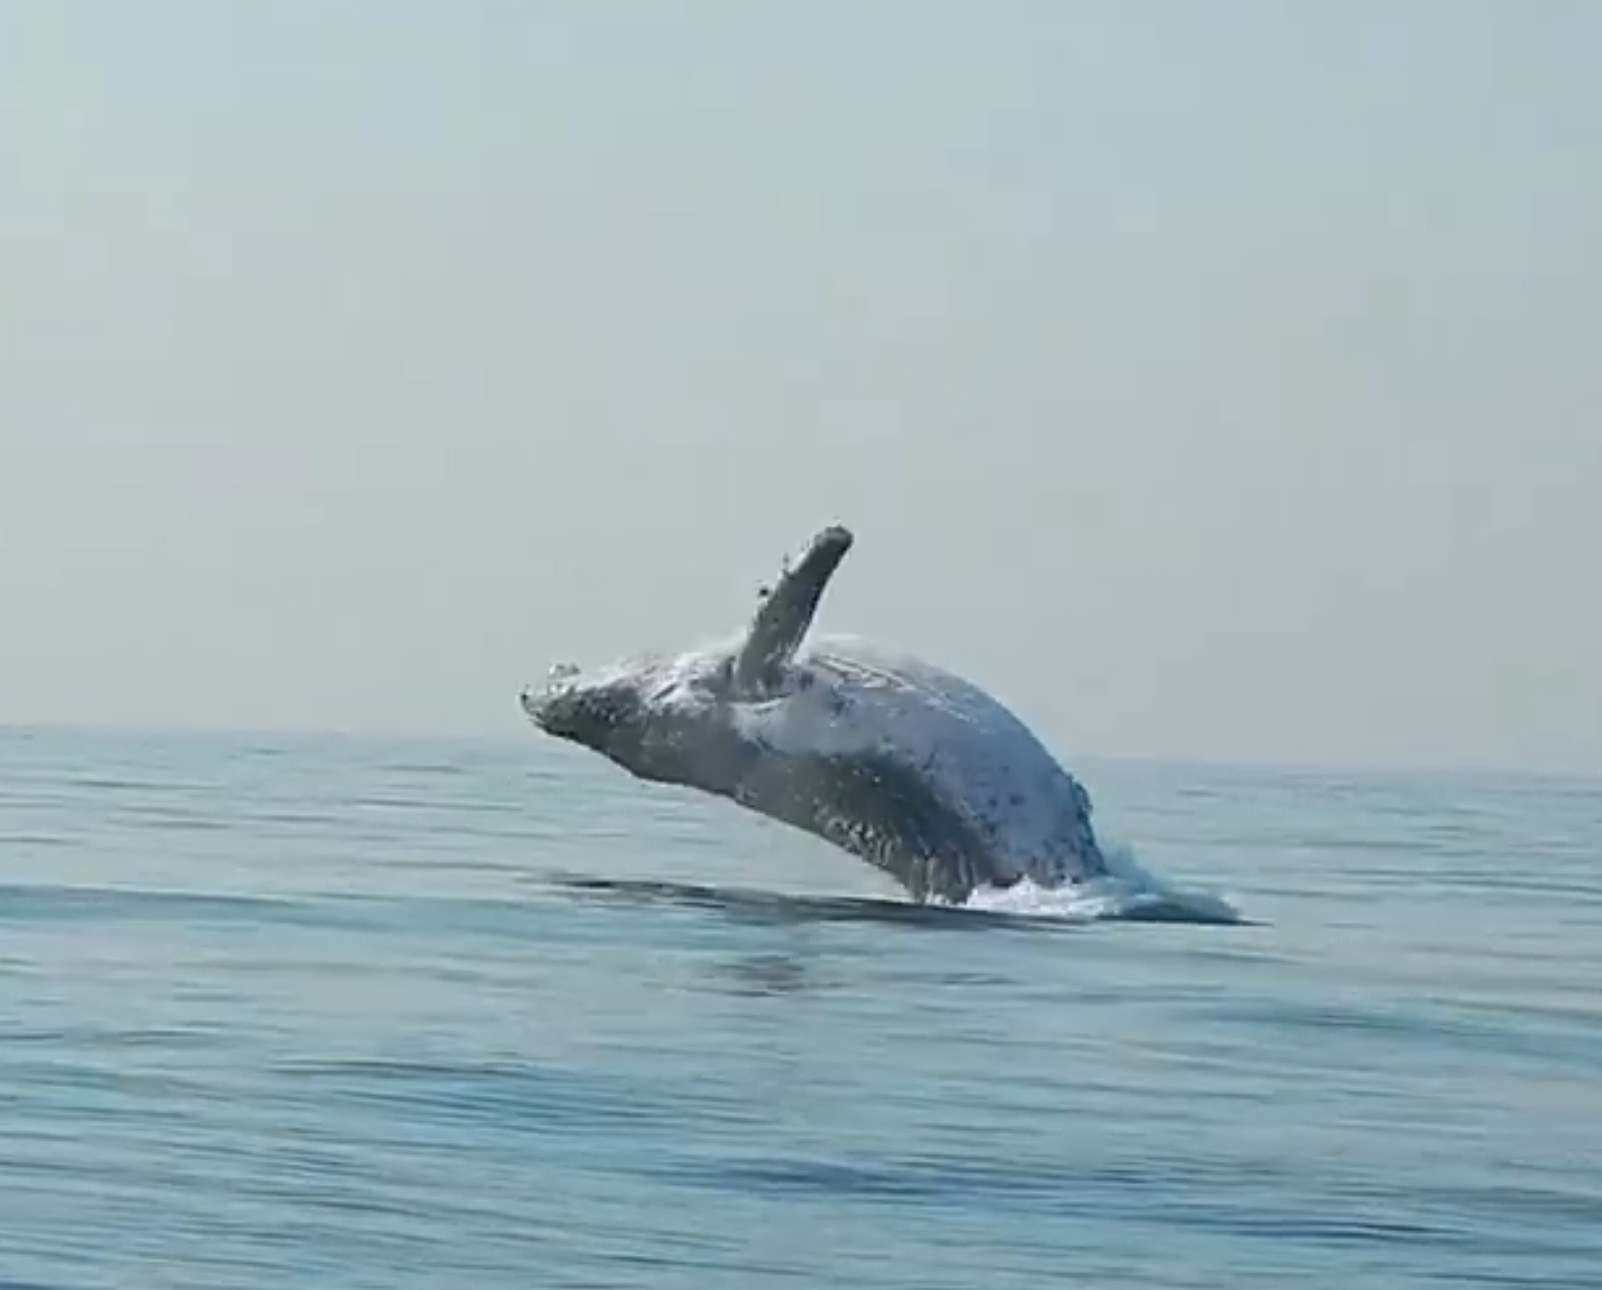humpback: (512, 627, 1115, 896)
